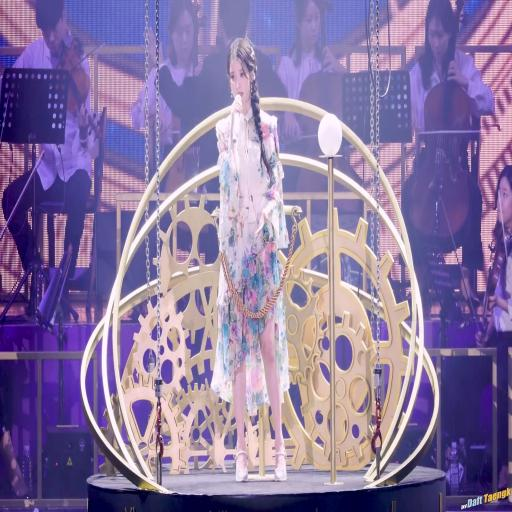IU: (226, 40, 256, 104)
